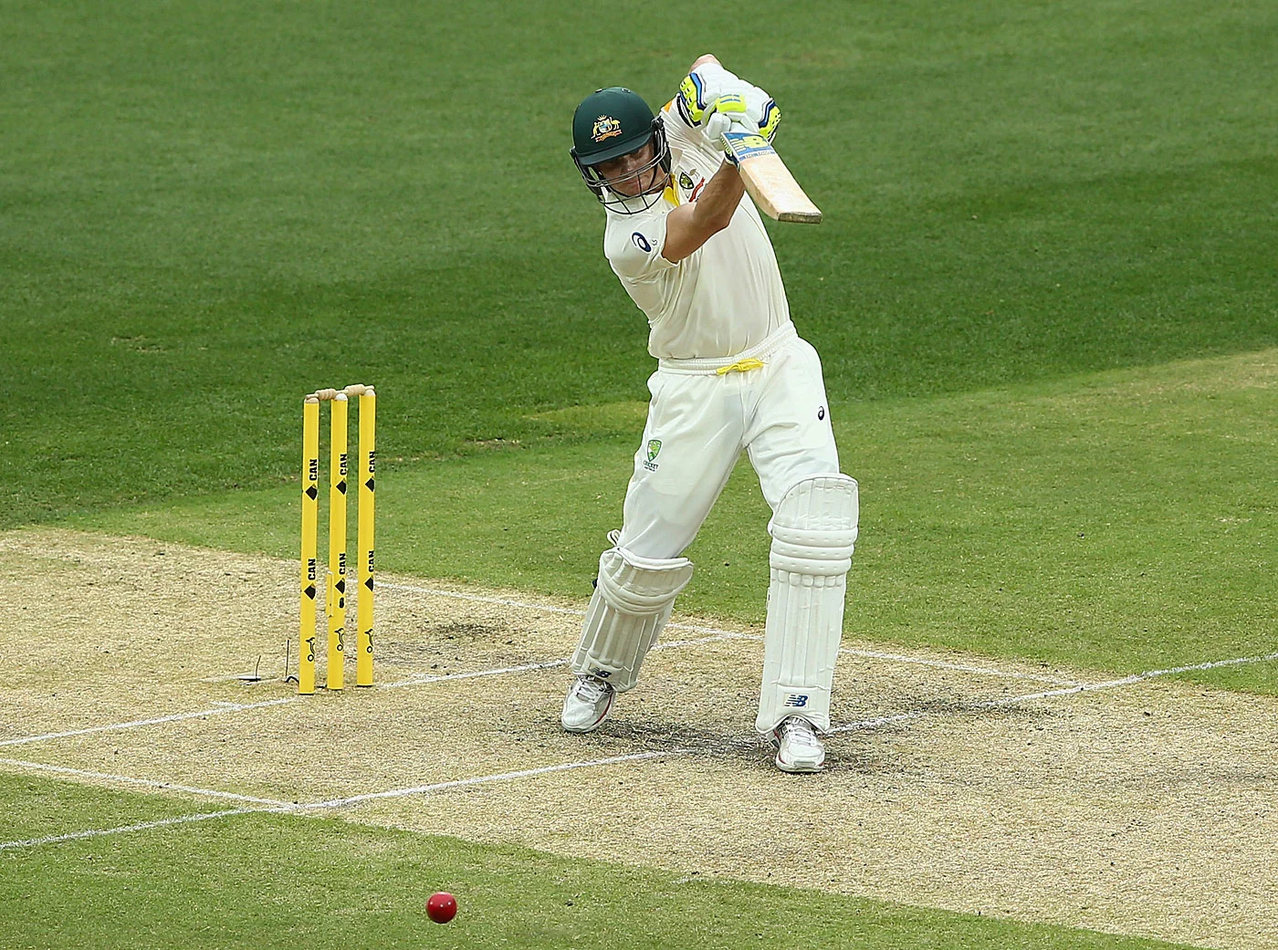Cover drive: (329, 61, 998, 938)
